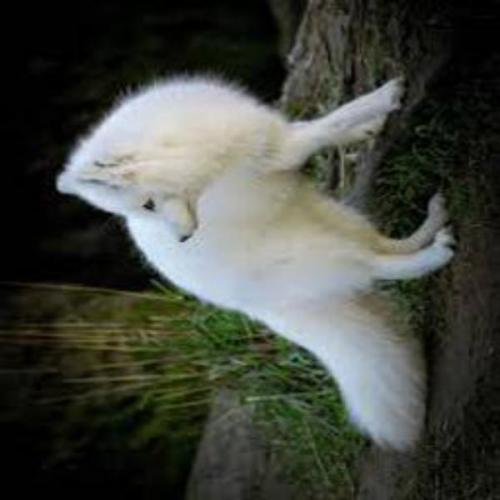arctic_fox-endangered: (53, 69, 458, 451)
